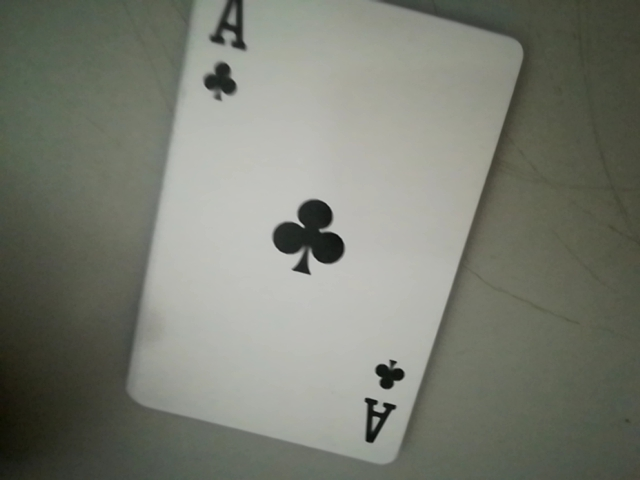mh a: (188, 4, 252, 108), (359, 354, 415, 455)
